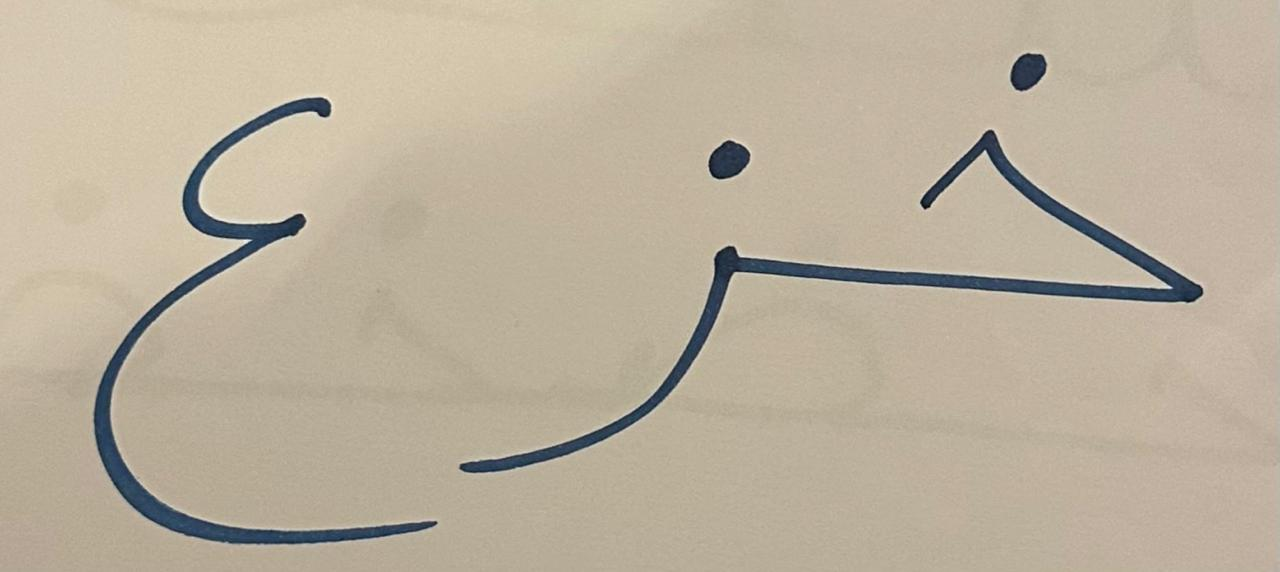ain: (65, 7, 400, 565)
hamza: (403, 53, 802, 510)
lam: (809, 13, 1247, 412)
